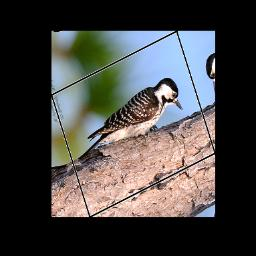Woodpecker: (63, 69, 190, 173)
